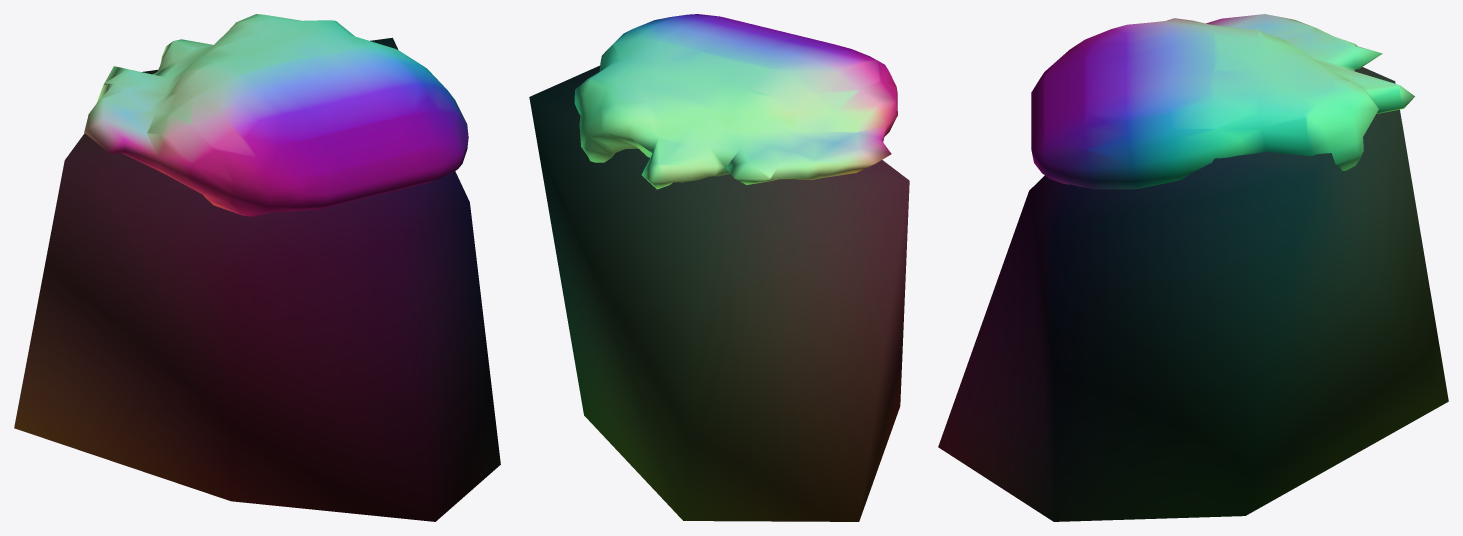
File: rock3.fbx
The picture shows the model from 3 angles, left to right: view 1: azimuth 30°, elevation 25°; view 2: azimuth 150°, elevation 25°; view 3: azimuth 270°, elevation 25°; orthographic projection. The views are drawn at different scales.
Parts seen in each view (by area): view 1: Rock 3, Snow 3; view 2: Rock 3, Snow 3; view 3: Rock 3, Snow 3.
Boxes of the visible parts, x1,y1,x2,y2 form: Rock 3: (14, 37, 500, 521); Snow 3: (84, 14, 468, 216); Rock 3: (529, 65, 909, 521); Snow 3: (574, 14, 897, 189); Rock 3: (938, 67, 1448, 521); Snow 3: (1031, 14, 1414, 189).
Size of the model in its own units: 232 by 237 by 279.
